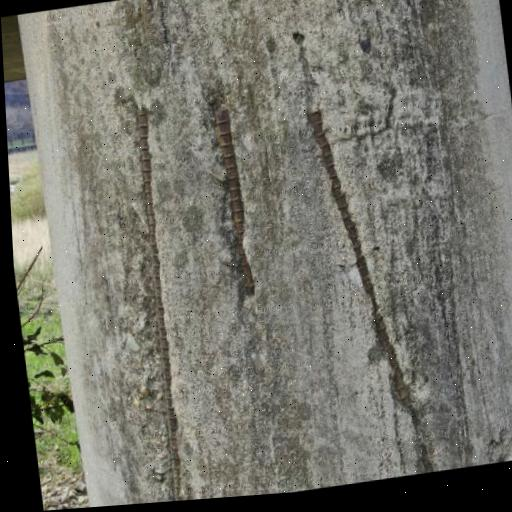exposed_rebar: (309, 110, 432, 470), (138, 113, 182, 501), (216, 109, 255, 295)
